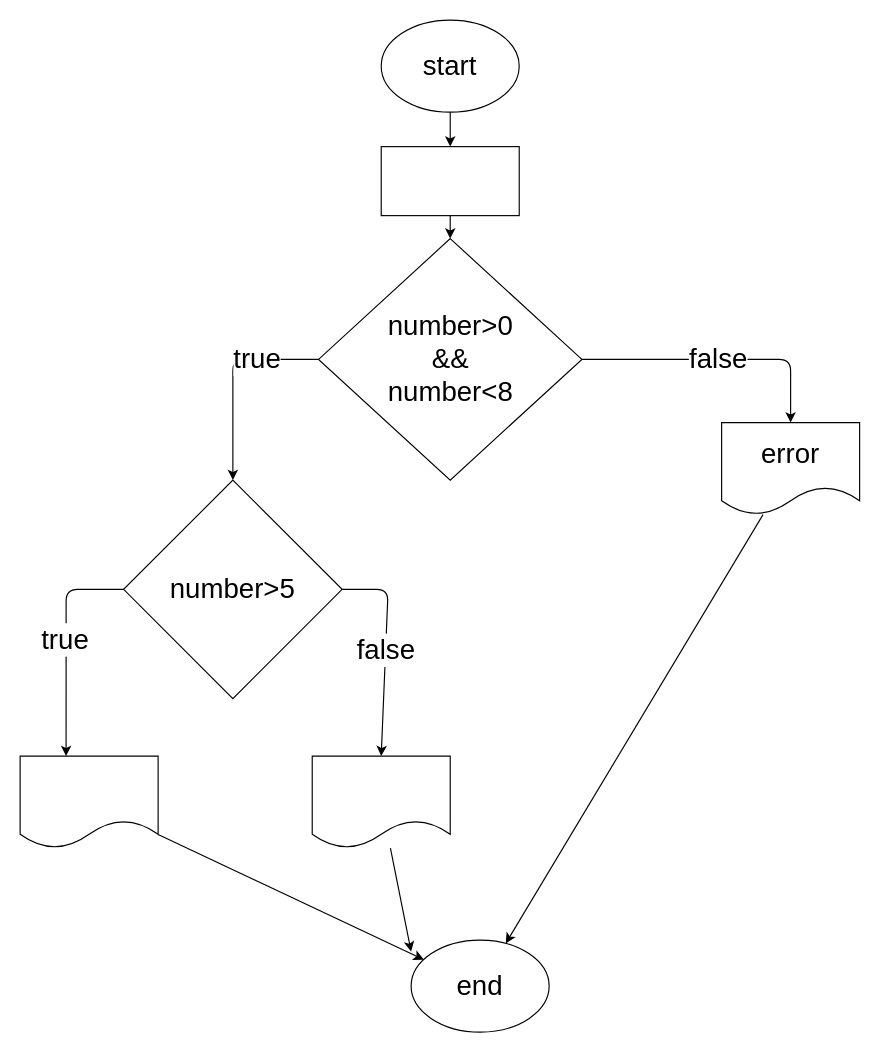
This 880x1052 diagram has some shape labels left out. Here are the shapes that lost their labels. From the top down, the centre of each, then its label:
At pixel 449 180: "number".
At pixel 88 801: "day off".
At pixel 380 801: "weekday".
